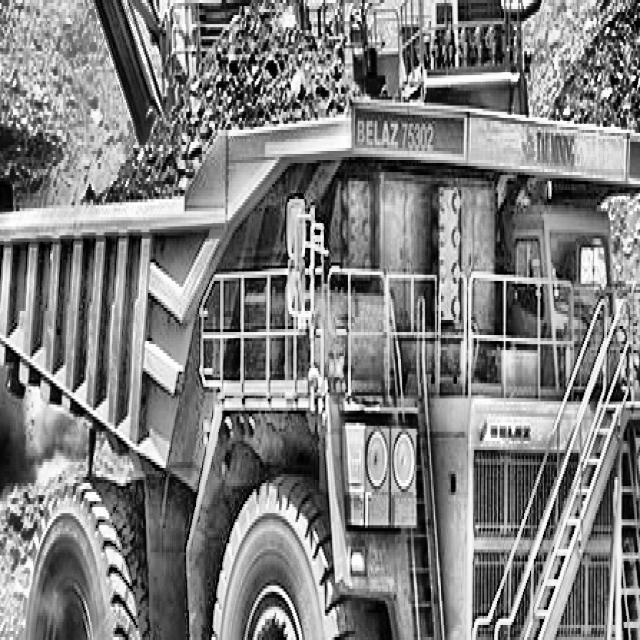dump_truck: (0, 96, 640, 640)
excavator: (0, 0, 564, 395)
